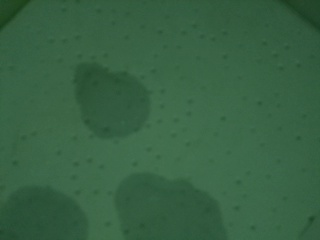Water_detected: (129, 183, 198, 240), (77, 73, 137, 134)
